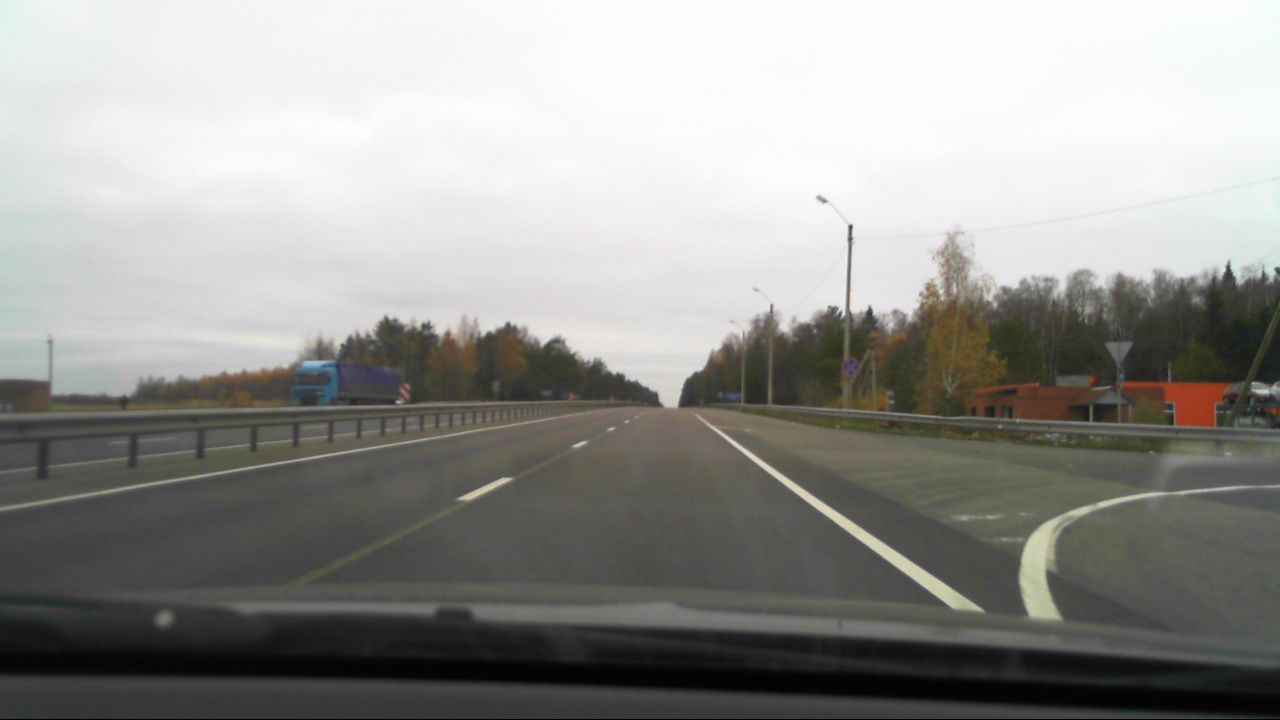No Parking: (843, 358, 863, 376)
